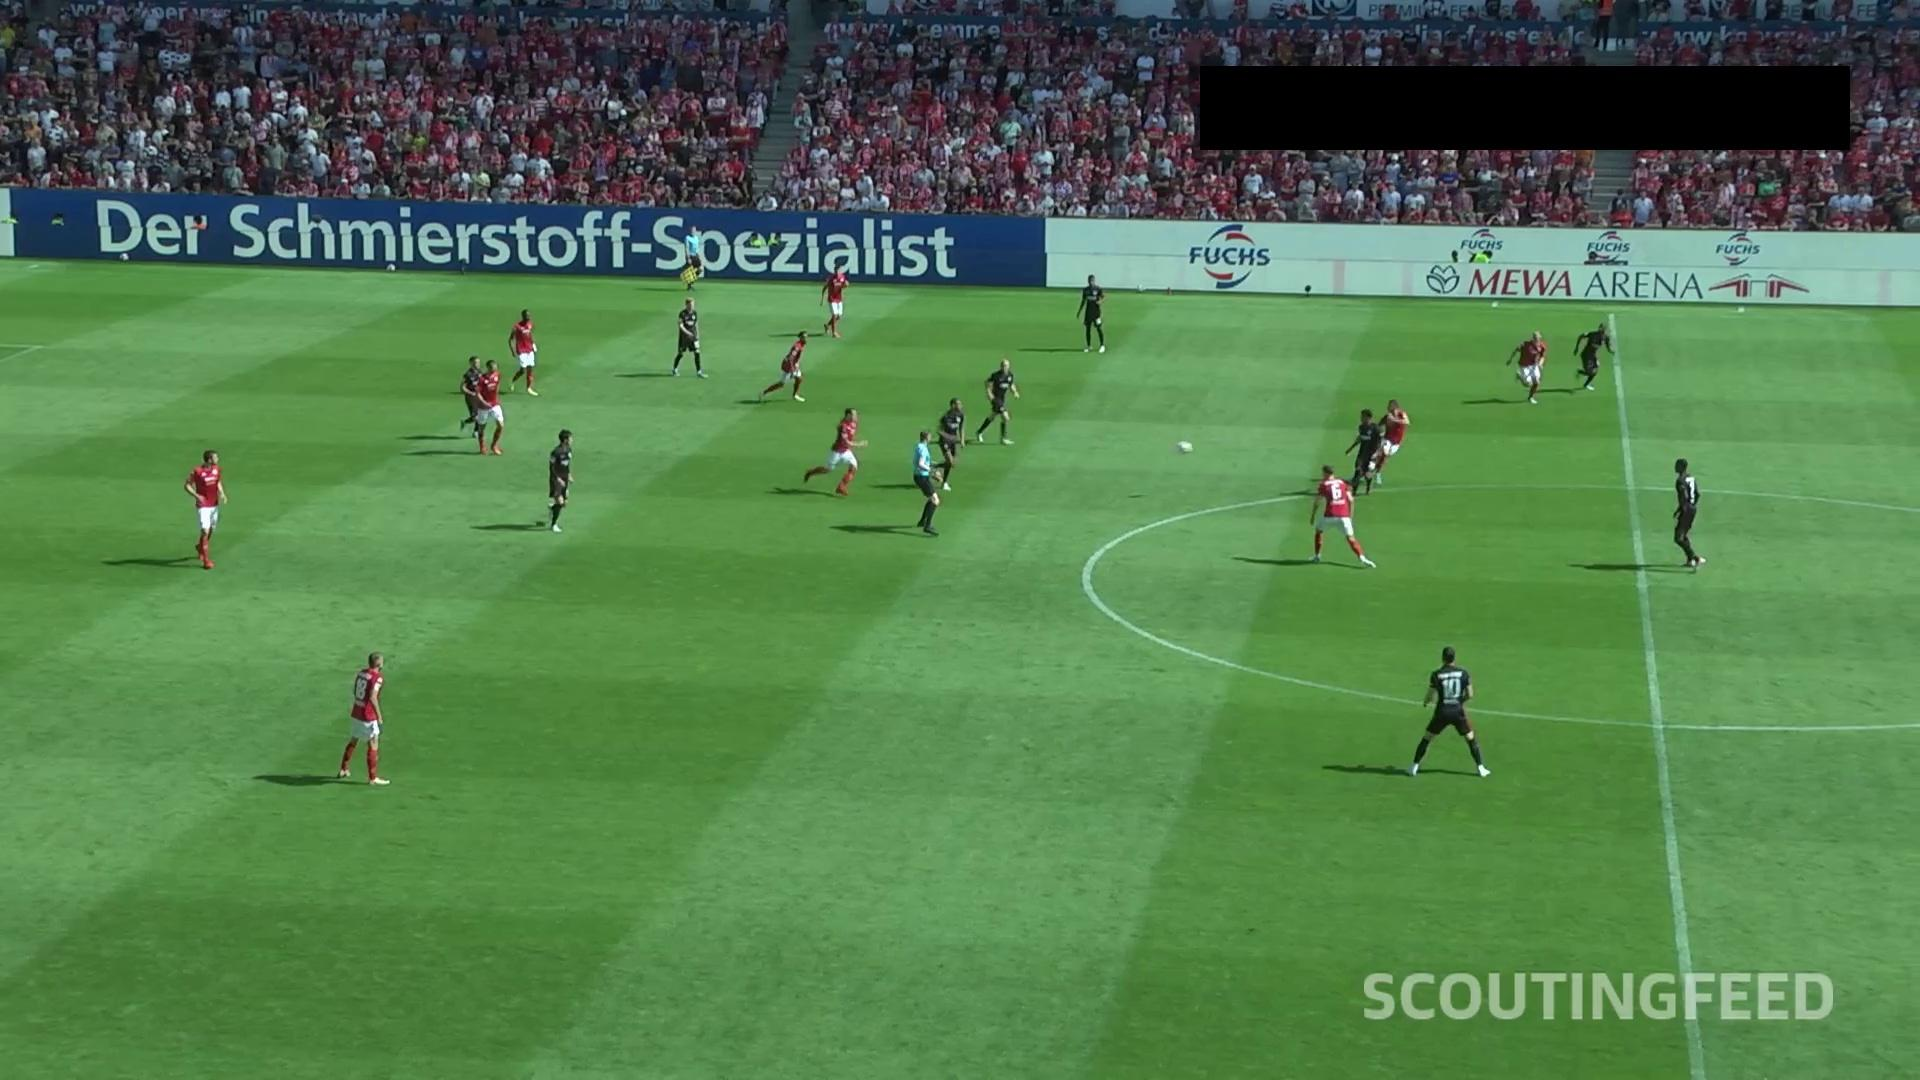Location-of-ball: (1168, 429, 1201, 460)
